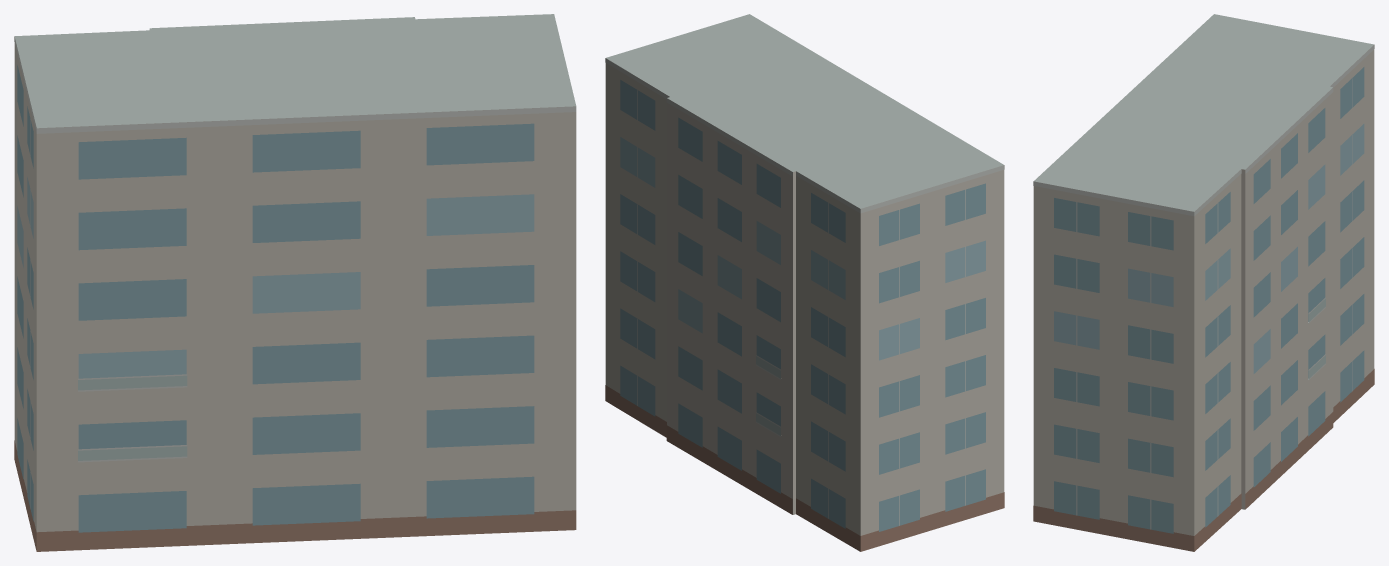
The model's file is survey-upis-32551324.glb.
3 renders of one model, left to right at view 1: azimuth 30°, elevation 25°; view 2: azimuth 150°, elevation 25°; view 3: azimuth 270°, elevation 25°, orthographic. The views are drawn at different scales.
Visible parts, largest first — view 1: survey-upis-32551324.tmp; view 2: survey-upis-32551324.tmp; view 3: survey-upis-32551324.tmp.
Part boxes in pixels (left/top/right/bottom): survey-upis-32551324.tmp: left=14, top=14, right=576, bottom=551; survey-upis-32551324.tmp: left=605, top=14, right=1004, bottom=551; survey-upis-32551324.tmp: left=1033, top=14, right=1374, bottom=551.
Bounding box in the file's own units: 22.84 × 18.3 × 16.64.
